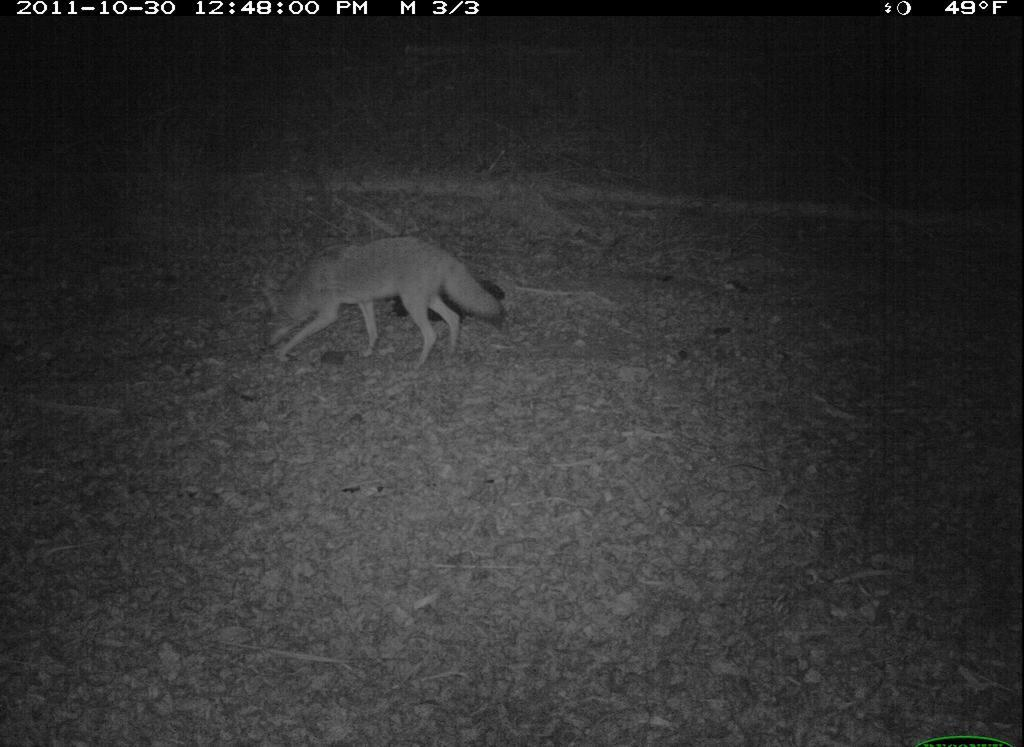coyote: (258, 232, 507, 377)
